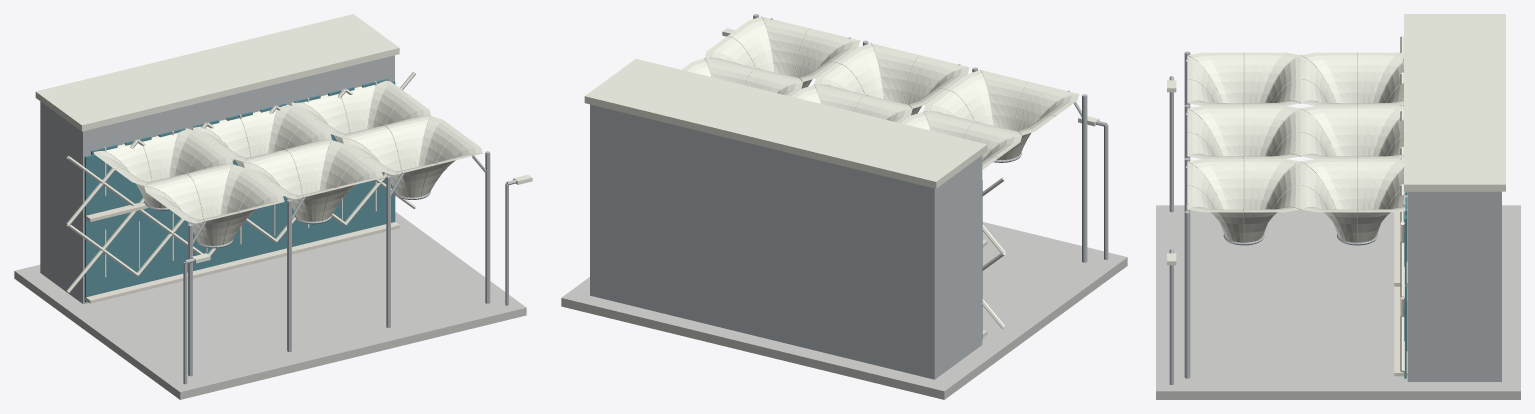
File: dot-P08.glb
3 renders of one model, left to right at view 1: azimuth 30°, elevation 25°; view 2: azimuth 150°, elevation 25°; view 3: azimuth 270°, elevation 25°, orthographic. The views are drawn at different scales.
Parts seen in each view (by area): view 1: pave; view 2: pave; view 3: pave.
Part boxes in pixels (box(x1,y1,x2,y2)): pave: box(14, 14, 532, 399); pave: box(561, 14, 1127, 399); pave: box(1156, 14, 1520, 399).
Size of the model in its own units: 6.19 by 3.11 by 4.96.
1 material, 1 textured.
